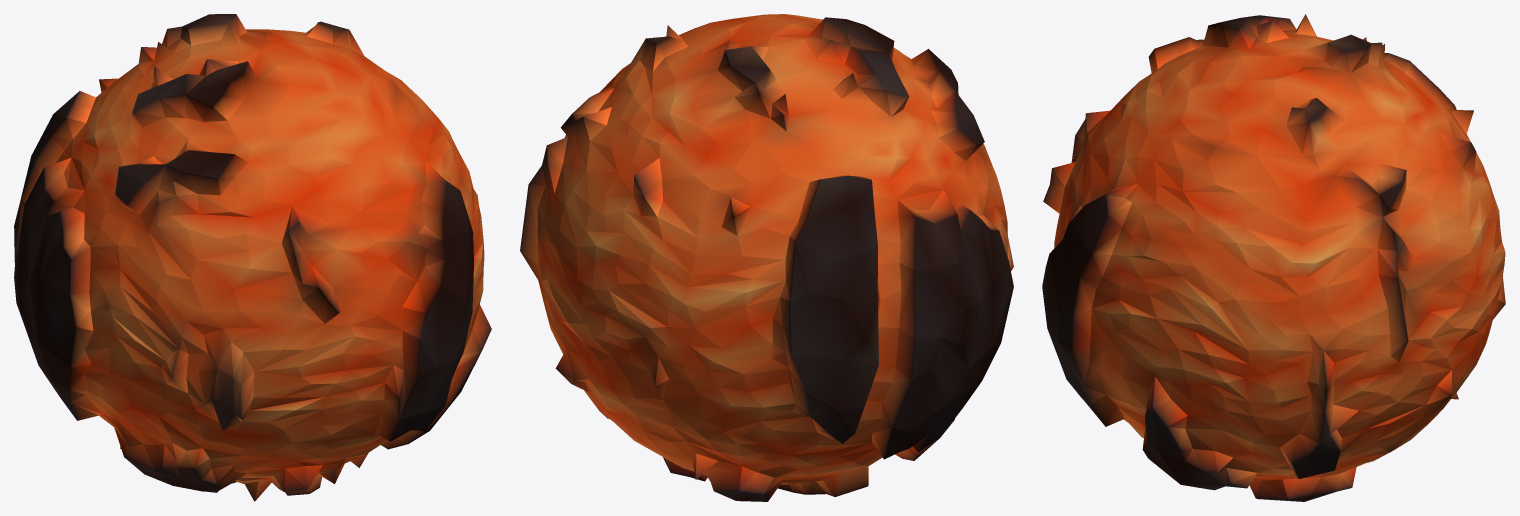
File: barren_18.fbx
3 renders of one model, left to right at view 1: azimuth 30°, elevation 25°; view 2: azimuth 150°, elevation 25°; view 3: azimuth 270°, elevation 25°, orthographic. The views are drawn at different scales.
Visible parts, largest first — view 1: filecache1; view 2: filecache1; view 3: filecache1.
Boxes of the visible parts, bbox=[...] form: filecache1: bbox=[14, 14, 491, 501]; filecache1: bbox=[520, 14, 1013, 501]; filecache1: bbox=[1042, 14, 1505, 501].
Size of the model in its own units: 2.17 by 2.15 by 2.08.
